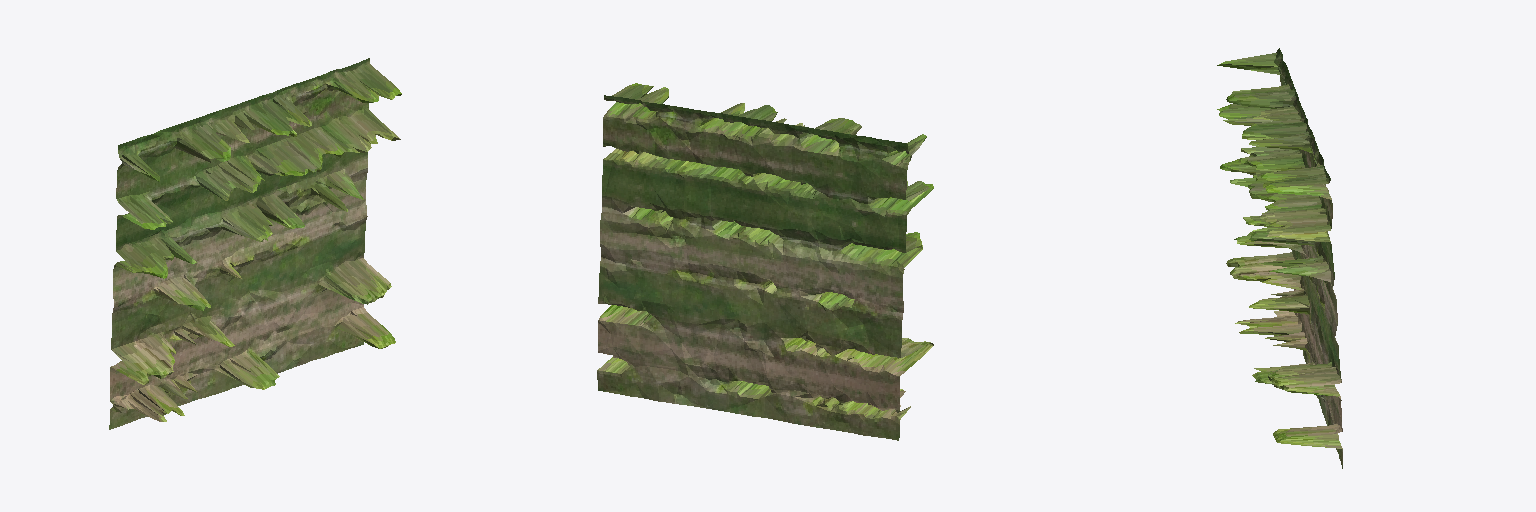
3 renders of one model, left to right at view 1: azimuth 30°, elevation 25°; view 2: azimuth 150°, elevation 25°; view 3: azimuth 270°, elevation 25°, orthographic.
Visible parts, largest first — view 1: grp1; view 2: grp1; view 3: grp1.
Part boxes in pixels (bbox=[...]): grp1: bbox=[109, 58, 401, 429]; grp1: bbox=[597, 83, 933, 440]; grp1: bbox=[1217, 48, 1342, 468].
Size of the model in its own units: 10 by 10 by 3.95.
Materials: 1 (1 with a texture image).